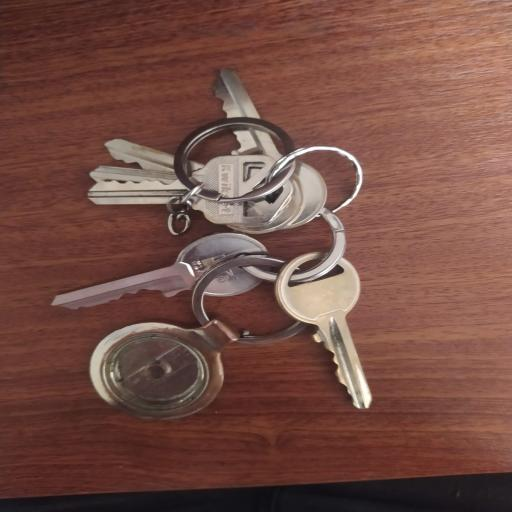Llaves: (45, 60, 388, 429)
